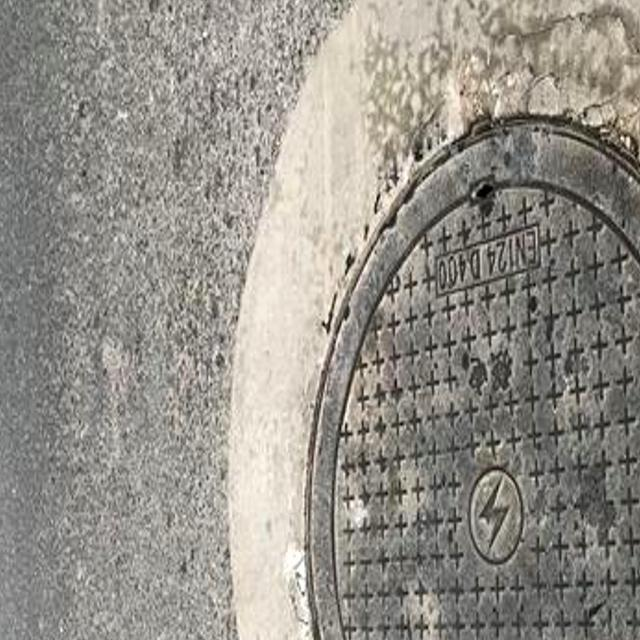circle: (232, 0, 640, 640)
